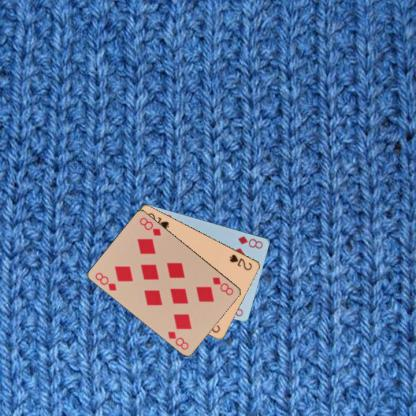2s: (227, 252, 254, 272)
8d: (92, 270, 118, 292), (210, 274, 234, 297), (236, 233, 264, 250)
